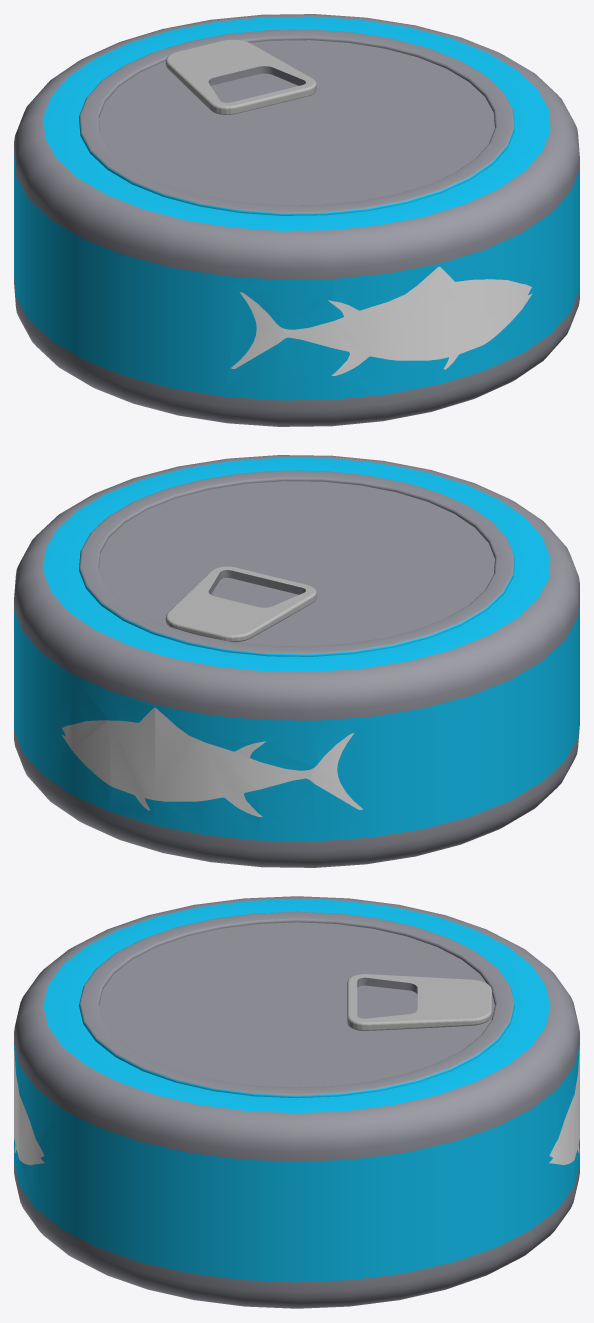
The model's file is tonbaligiKonserve.fbx.
3 views of the same model, one above another, from view 1: azimuth 30°, elevation 25°; view 2: azimuth 150°, elevation 25°; view 3: azimuth 270°, elevation 25° (orthographic).
Parts seen in each view (by area): view 1: tonbaligiKonserve; view 2: tonbaligiKonserve; view 3: tonbaligiKonserve.
Boxes of the visible parts, bbox=[...] form: tonbaligiKonserve: bbox=[14, 14, 579, 426]; tonbaligiKonserve: bbox=[14, 455, 579, 867]; tonbaligiKonserve: bbox=[14, 896, 579, 1308].
Size of the model in its own units: 53.2 by 20.83 by 53.2.
